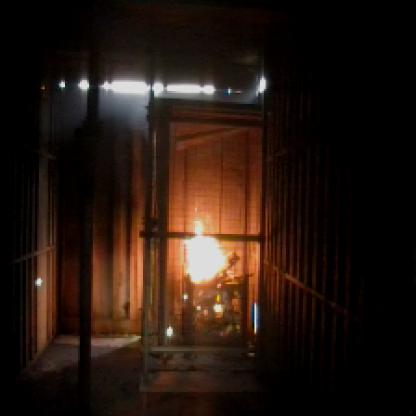Fire: (162, 174, 250, 344)
